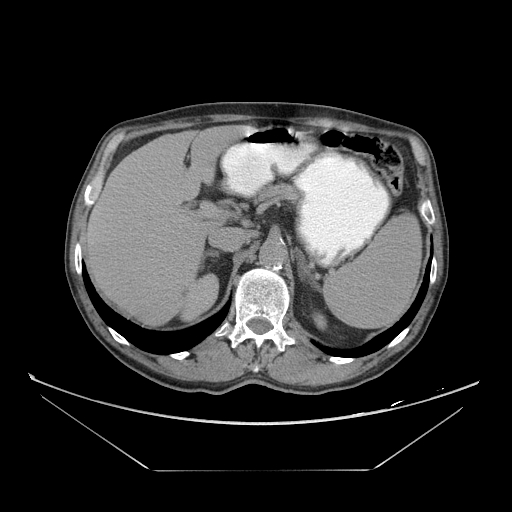left_kidney: (169, 267, 224, 325)
right_kidney: (305, 301, 336, 338)
